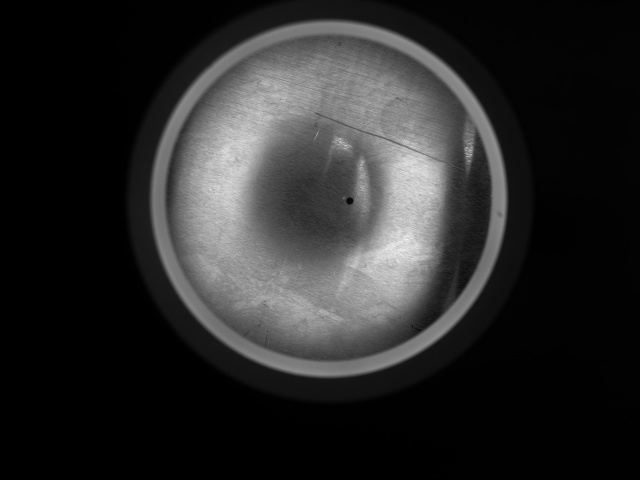ca_shang: (313, 107, 486, 181)
zhen_kong: (341, 193, 357, 209)
